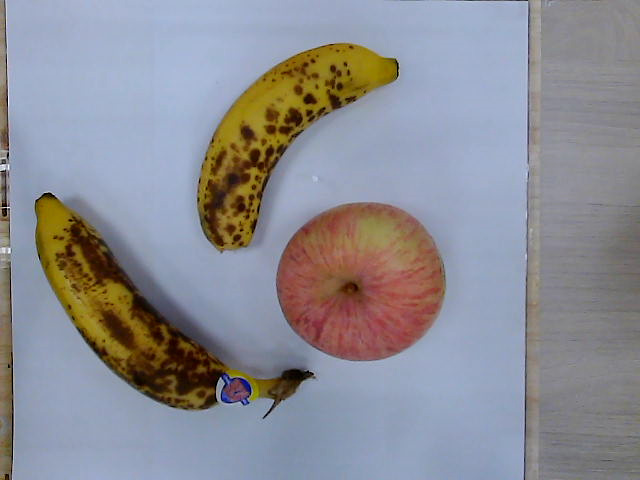fresh_apple: (277, 203, 446, 362)
rotten_banana: (34, 191, 310, 418), (200, 44, 400, 252)
